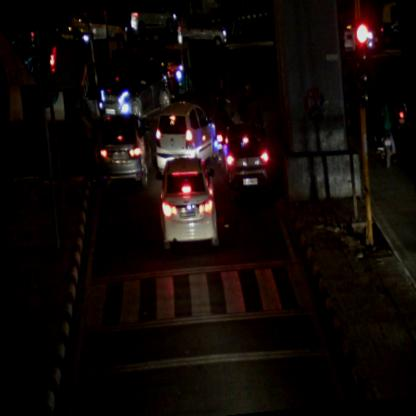car: (154, 155, 220, 253), (152, 98, 218, 178), (93, 54, 172, 120), (94, 112, 156, 191), (221, 122, 270, 201), (174, 7, 226, 51), (129, 3, 175, 43)
motorcycle: (369, 94, 397, 173), (209, 93, 236, 172), (385, 64, 409, 136)
